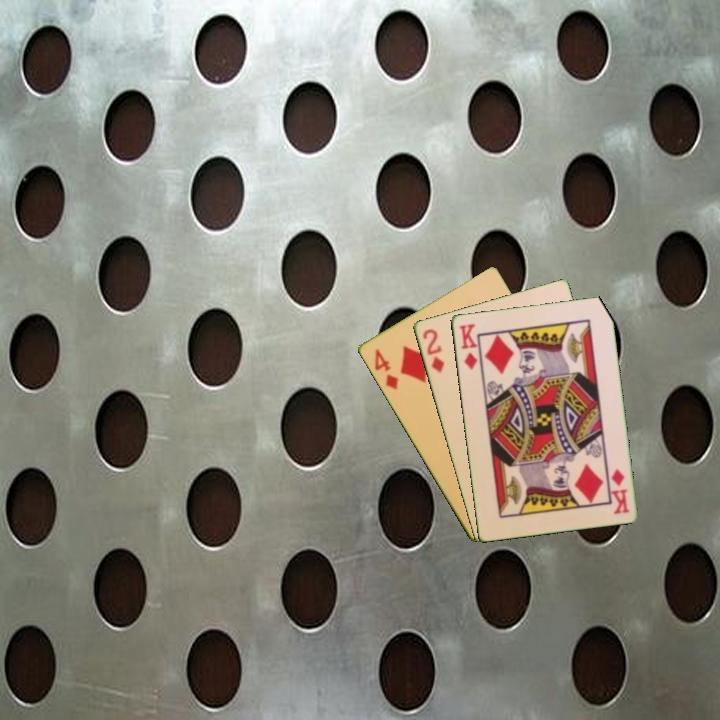2d: (419, 325, 447, 376)
4d: (370, 345, 401, 392)
Kd: (455, 320, 480, 372), (608, 465, 632, 517)
